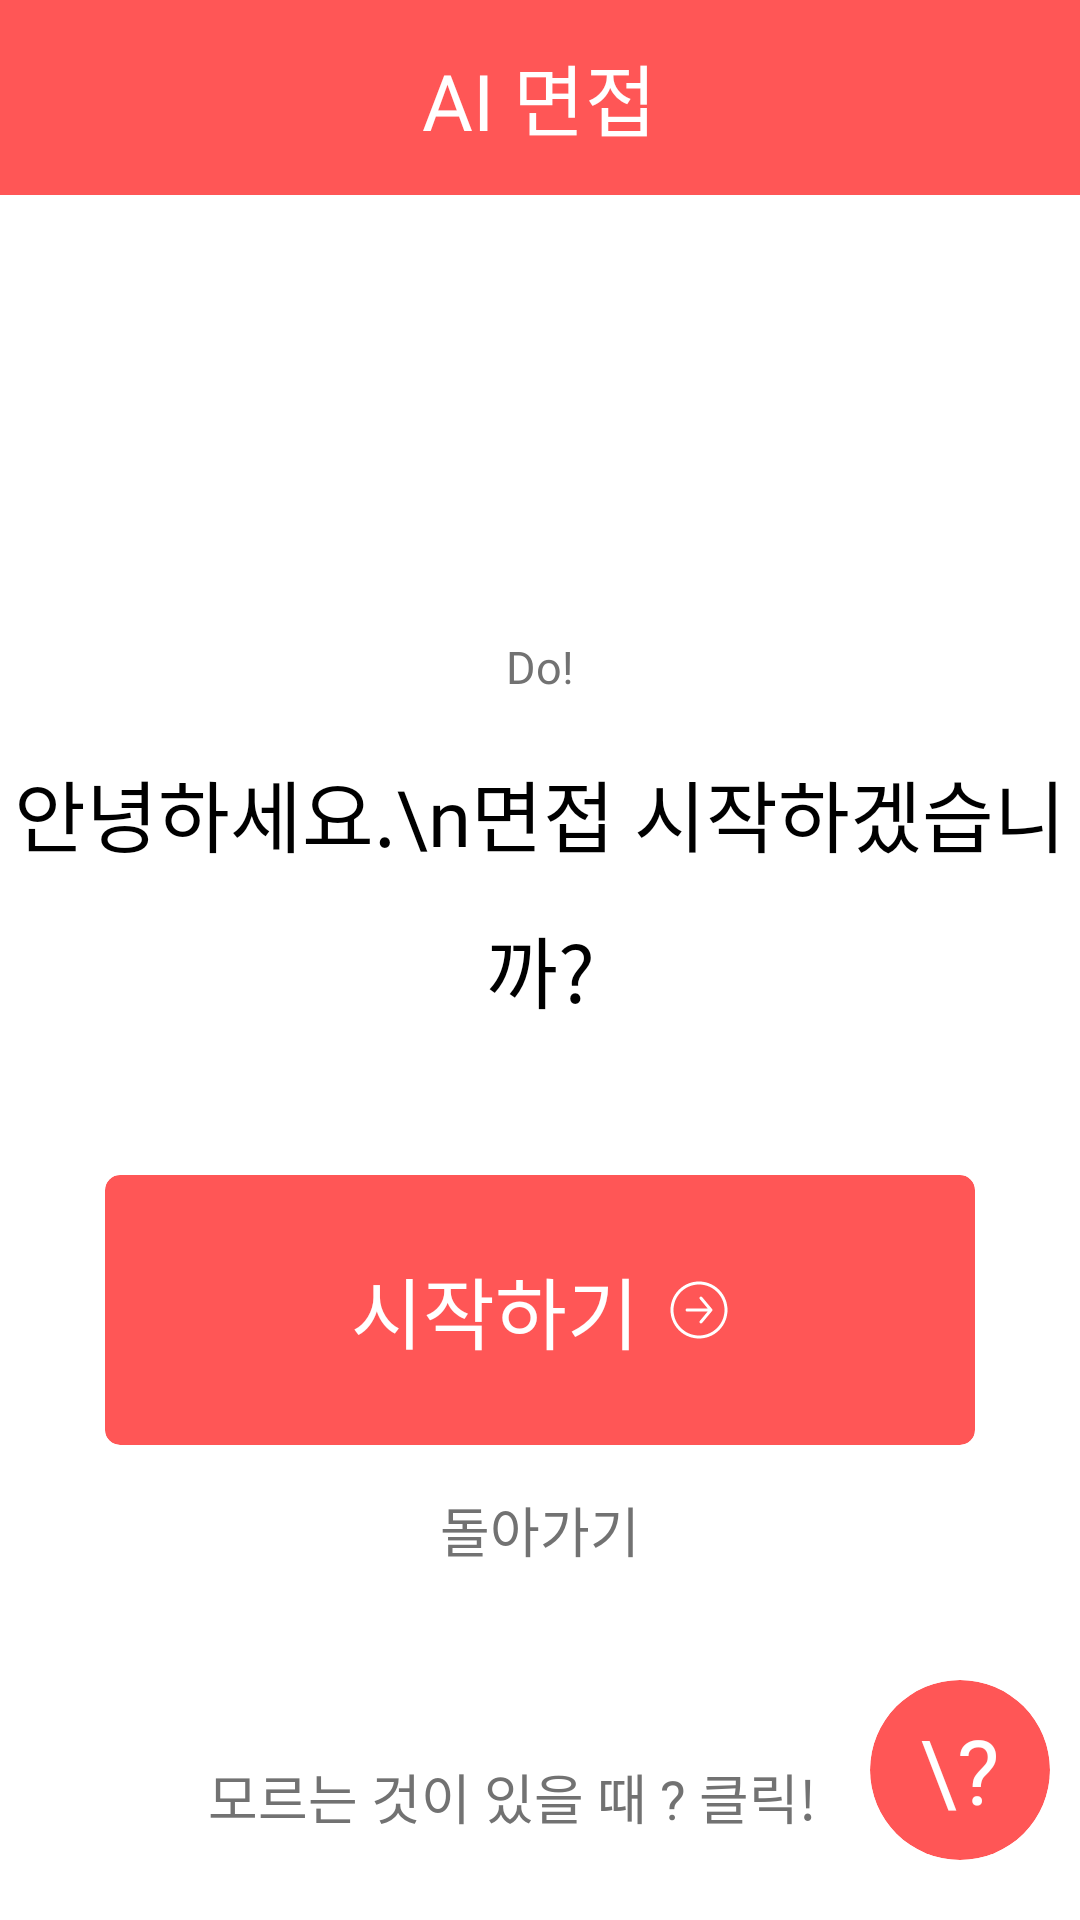

Icons on this 1080px×1920px Android screen, each with the point to tap as point (x, y):
next: point (699, 1310)
